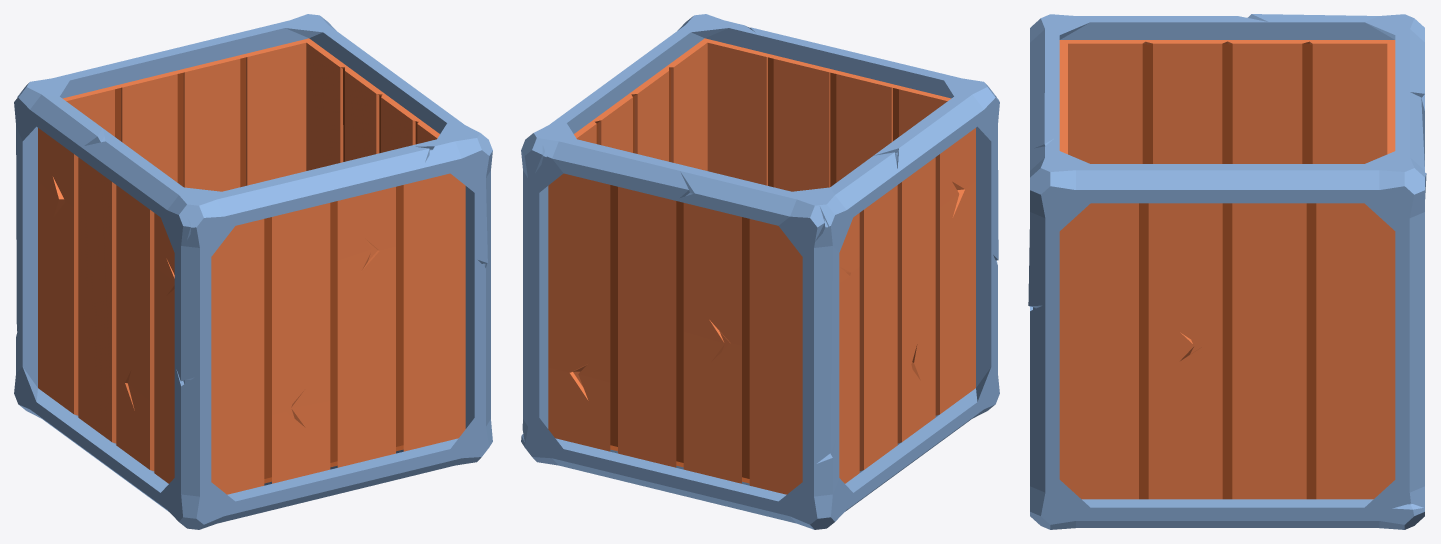
The picture shows the model from 3 angles, left to right: view 1: azimuth 30°, elevation 25°; view 2: azimuth 150°, elevation 25°; view 3: azimuth 270°, elevation 25°; orthographic projection. The views are drawn at different scales.
Parts seen in each view (by area): view 1: Box 2; view 2: Box 2; view 3: Box 2.
Boxes of the visible parts, x1=… form: Box 2: x1=14, y1=14, x2=492, y2=529; Box 2: x1=521, y1=14, x2=999, y2=529; Box 2: x1=1028, y1=14, x2=1426, y2=529.
Size of the model in its own units: 128 by 128 by 129.
